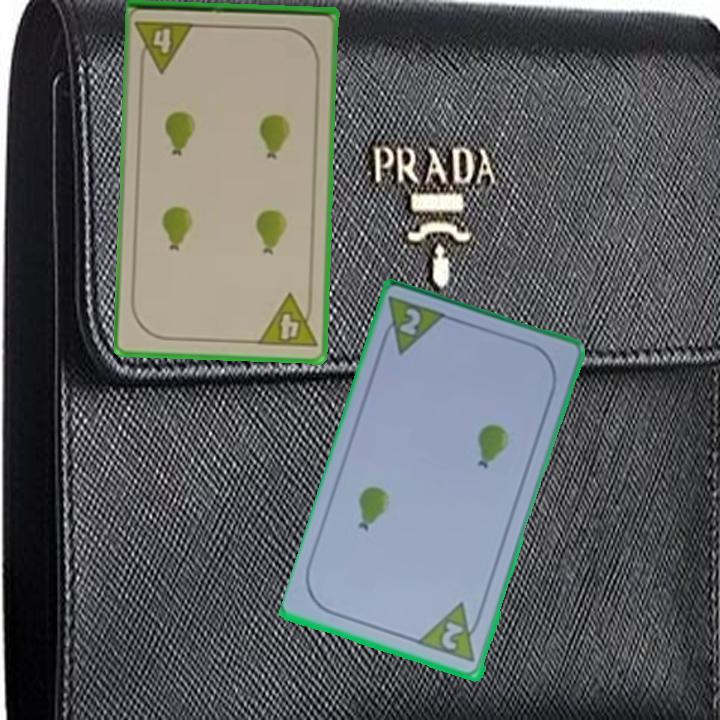2p: (376, 293, 451, 359), (416, 600, 487, 666)
4p: (254, 291, 320, 351), (133, 17, 199, 75)
